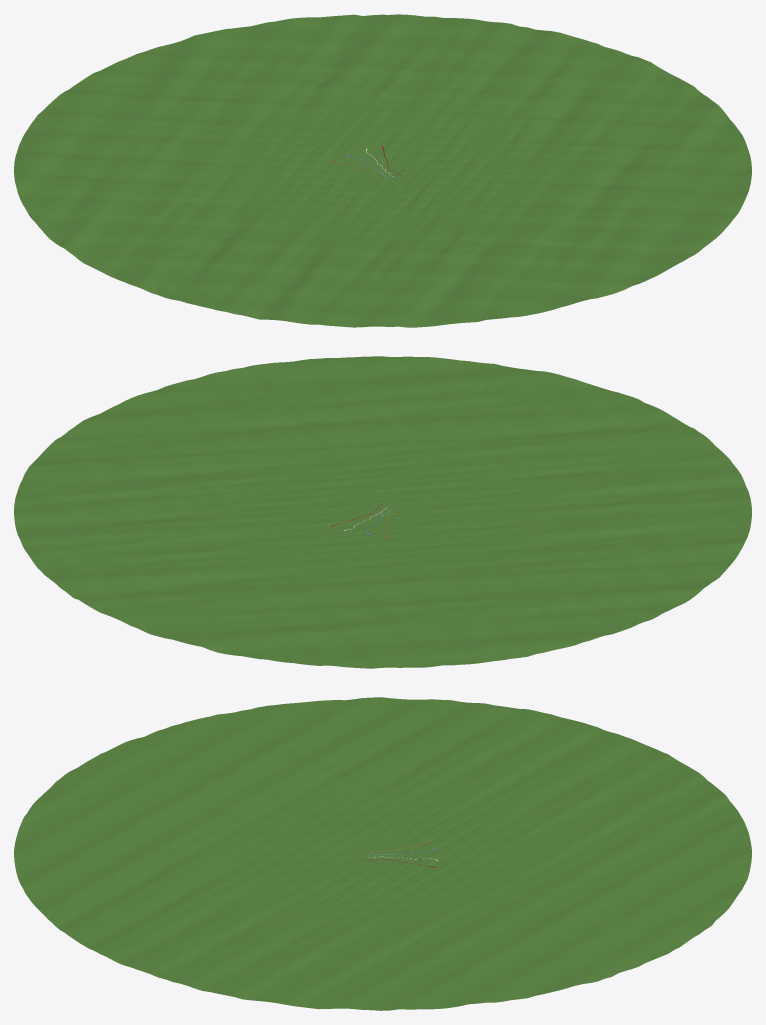
The model's file is ZB_dunya_cennet.glb.
3 views of the same model, one above another, from view 1: azimuth 30°, elevation 25°; view 2: azimuth 150°, elevation 25°; view 3: azimuth 270°, elevation 25° (orthographic).
Parts seen in each view (by area): view 1: arazi, arazi_on; view 2: arazi, arazi_on; view 3: arazi, arazi_on.
Part boxes in pixels (x1,y1,x2,y2): arazi: (14,14,703,248); arazi_on: (65,94,751,327); arazi: (14,434,703,668); arazi_on: (65,356,751,588); arazi: (380,697,751,1010); arazi_on: (14,697,380,1010).
Bounding box in the file's own units: 17923 × 109 × 17923.
